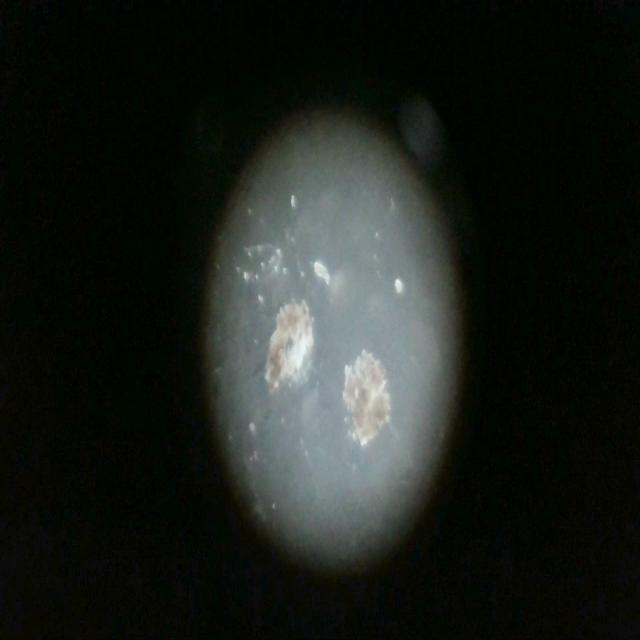alexandrium: (253, 284, 319, 392), (342, 347, 398, 448)
